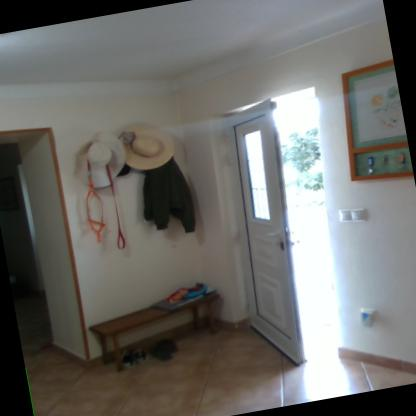semi: (208, 80, 380, 382)
